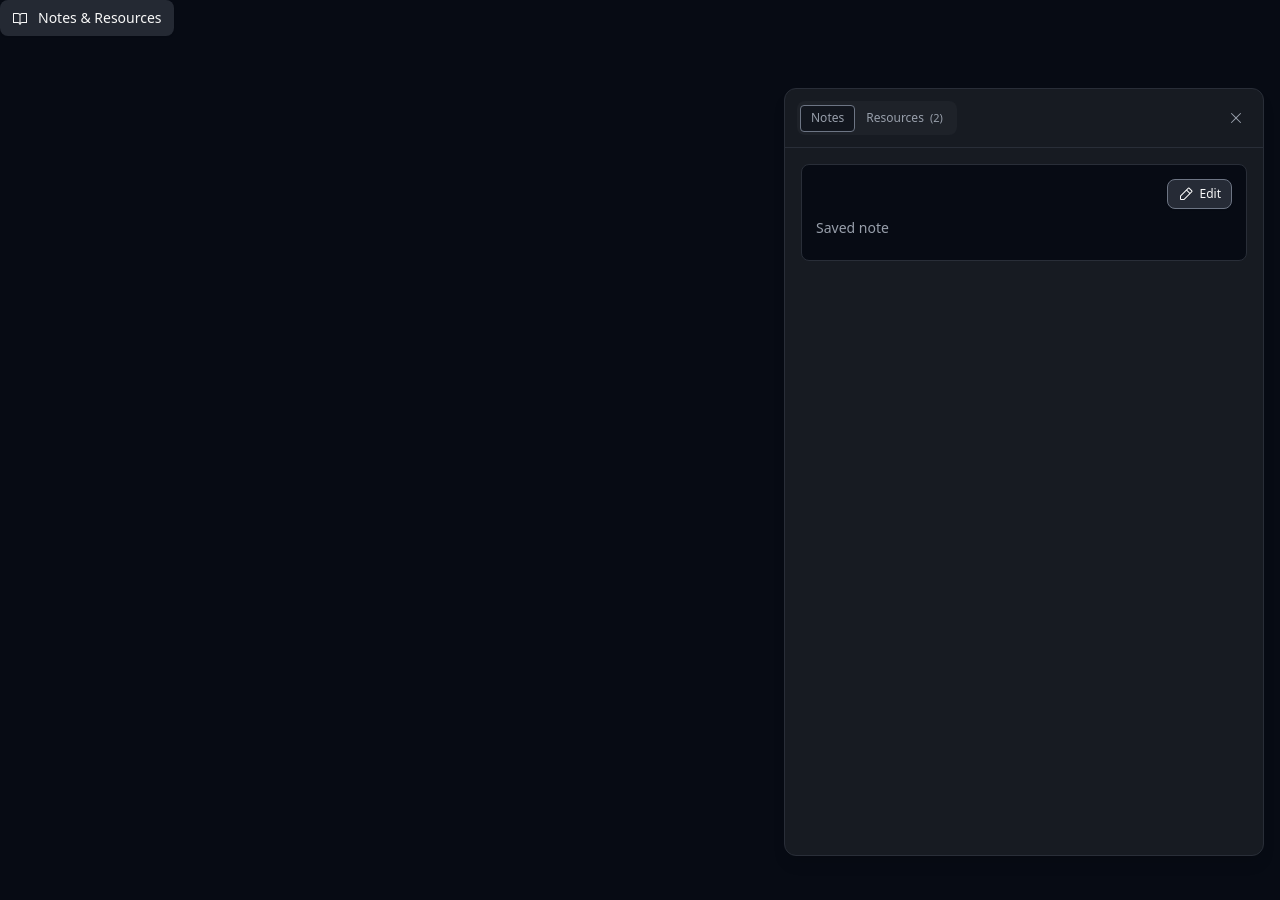
Test: EntityNotebook › cancels note edits without writing and starts the next edit from saved content
The image size is (1280, 900).
Click the button with aria-label "Edit note".
click(1199, 194)  # box [1166,179,1232,209]
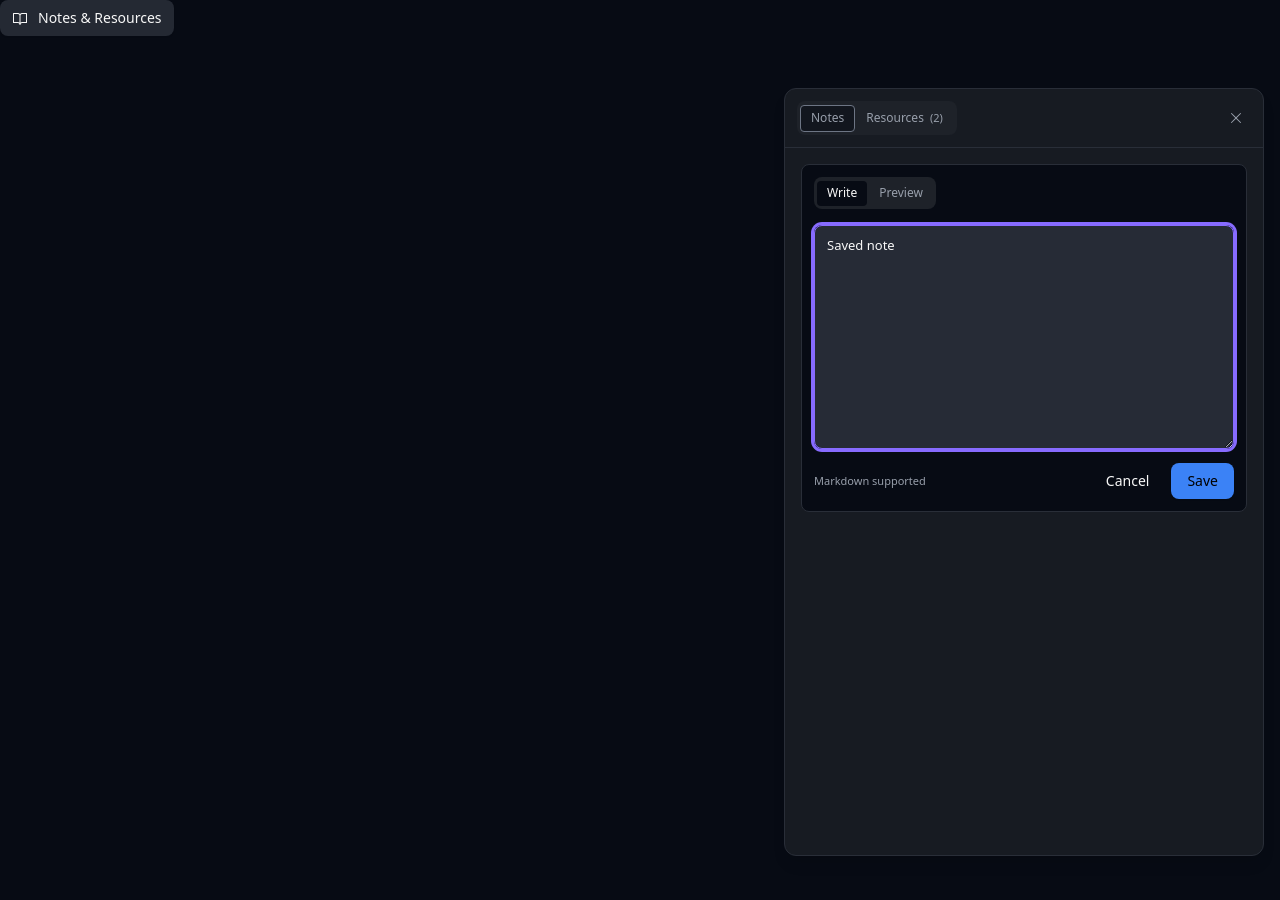
Type " draft" into the text box named "Note".
click(1024, 337); type(" draft")  # box [814,225,1234,449]
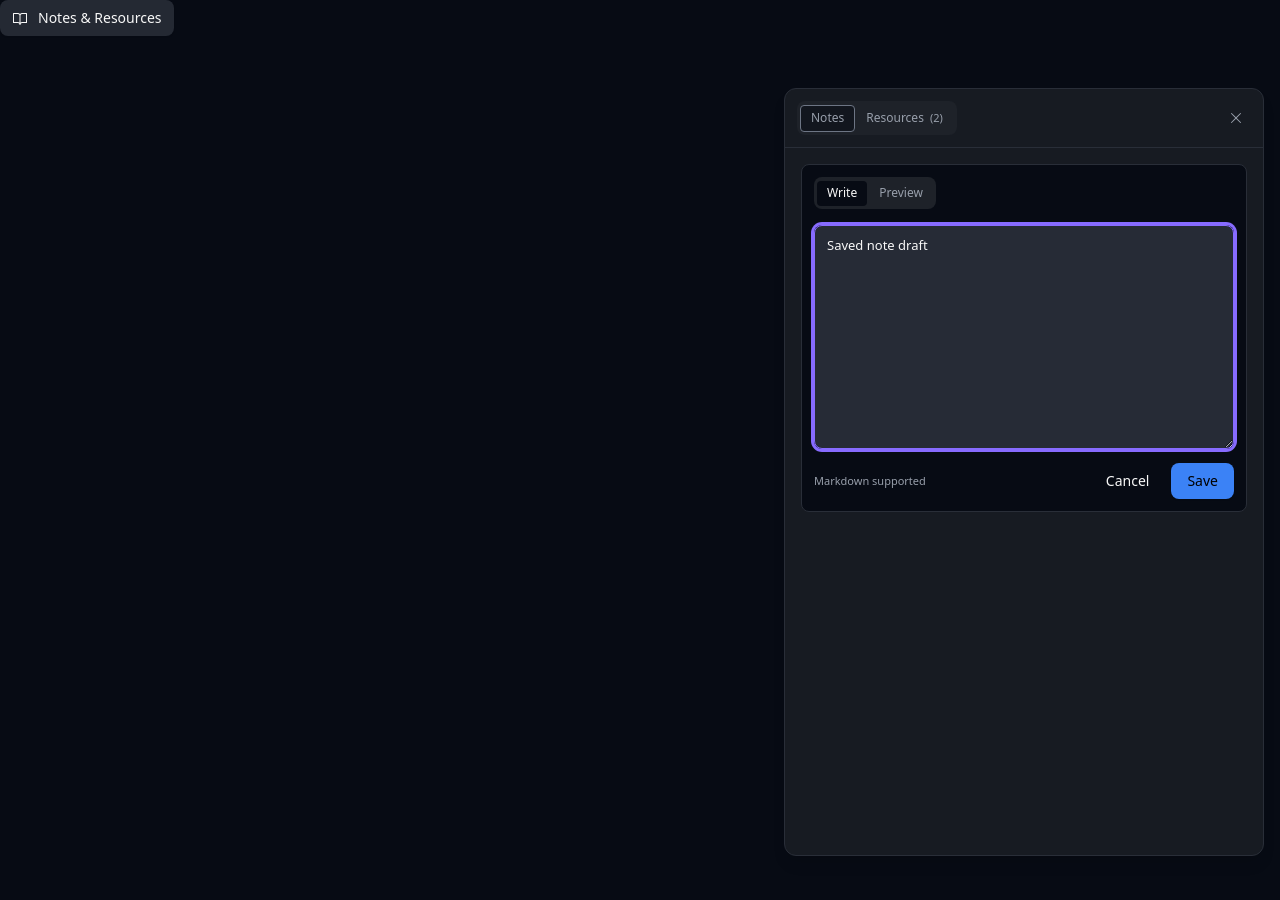
Click the button "Cancel".
click(1128, 481)  # box [1090,463,1165,499]
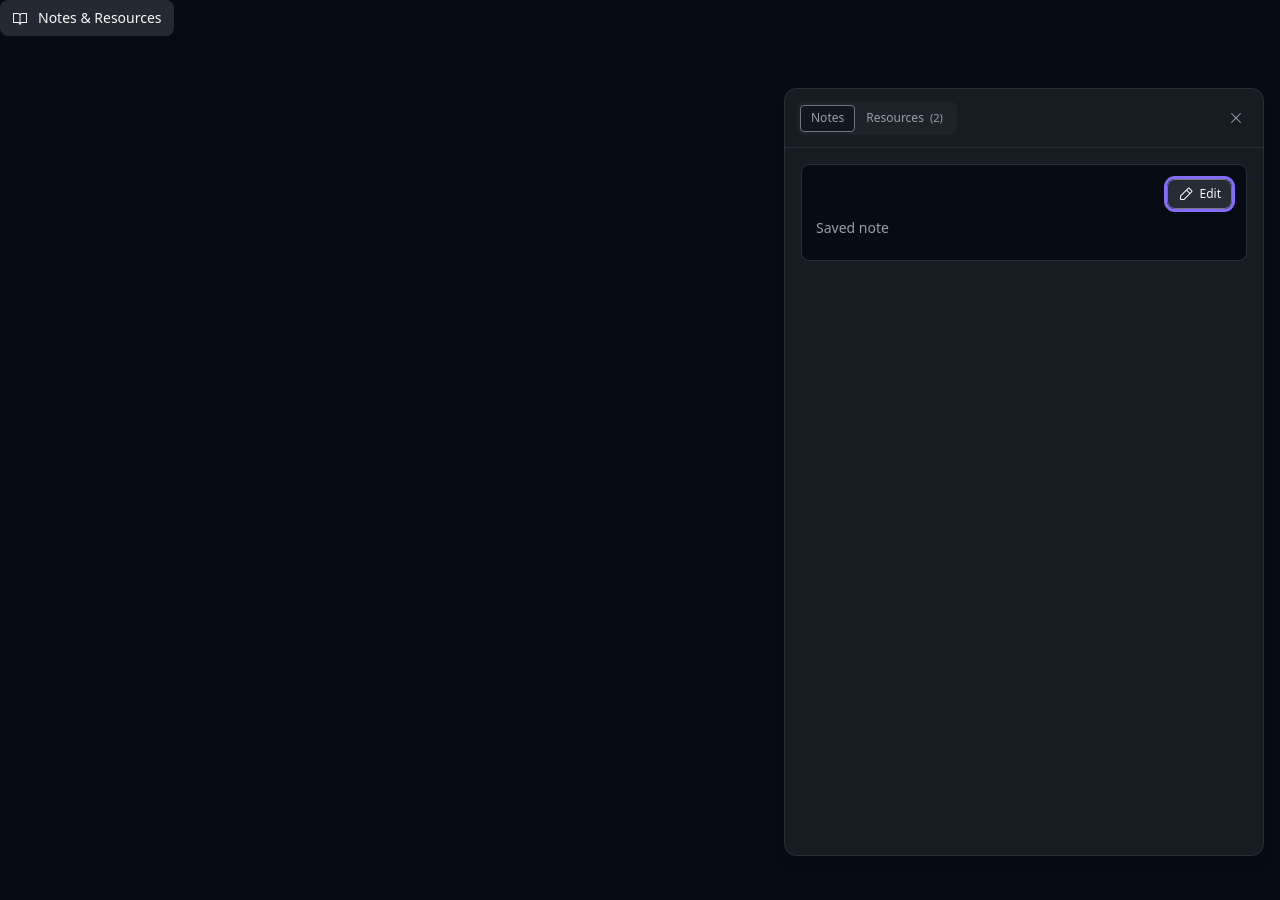
Click the button with aria-label "Edit note".
click(1199, 194)  # box [1166,179,1232,209]
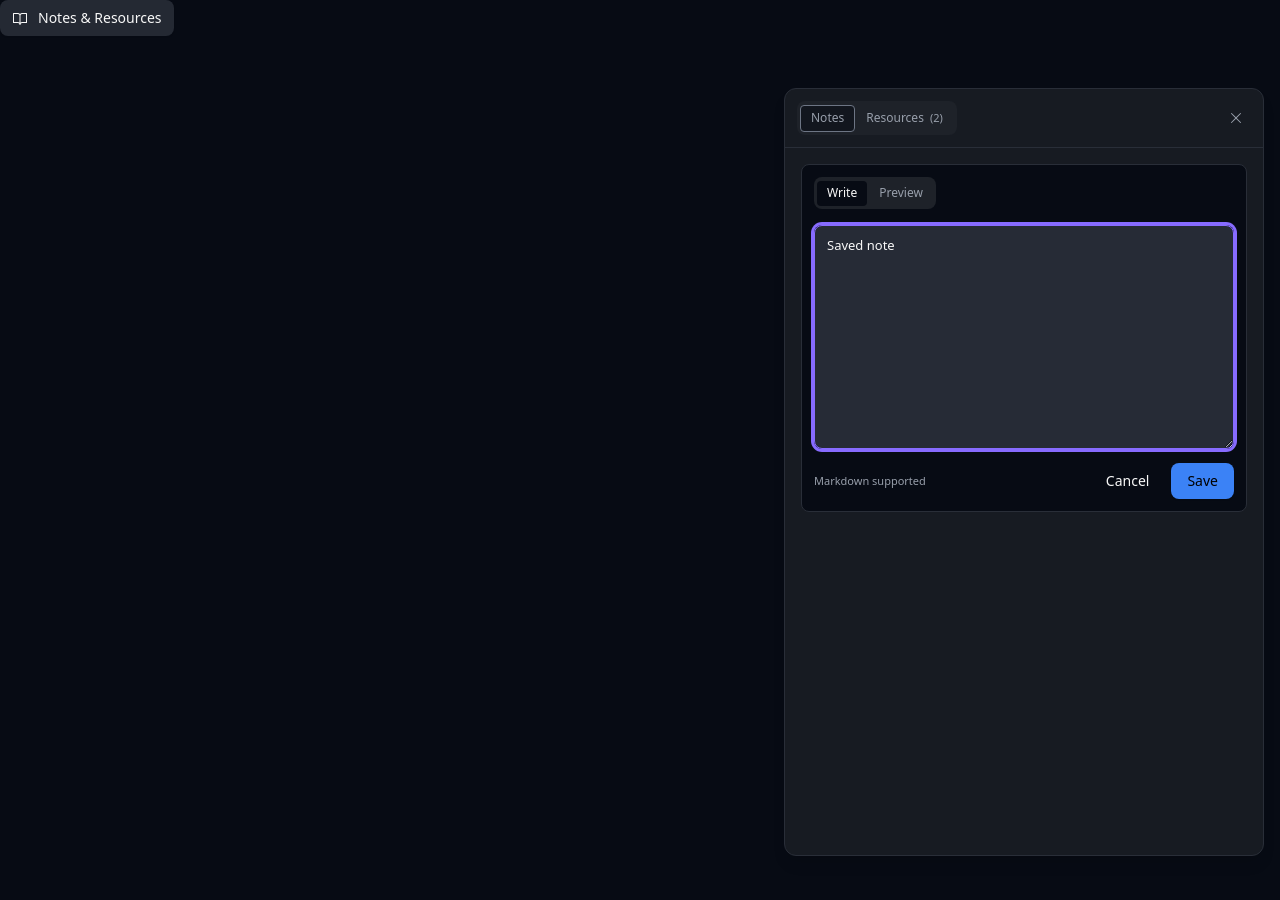
Result: the text box named "Note" holds "Saved note" at [814,225,1234,449]
